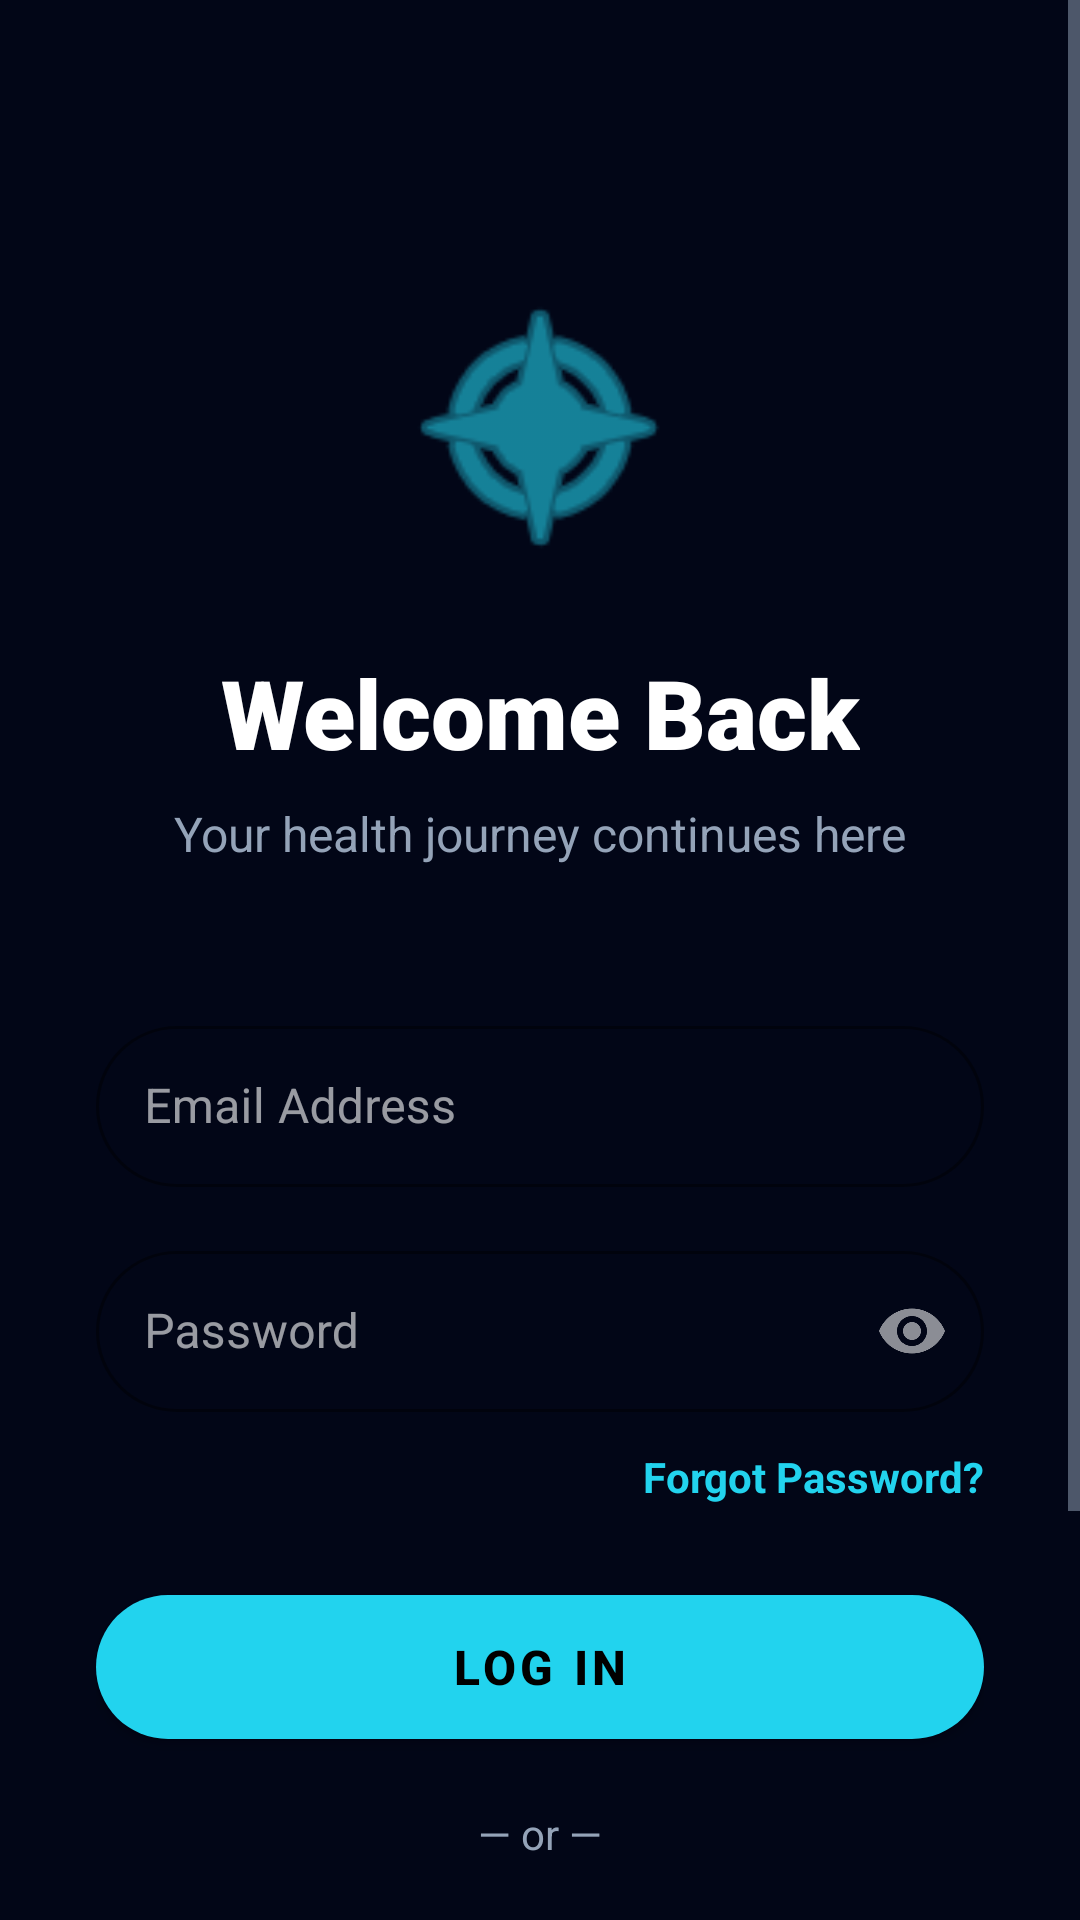

Icons on this 1080w x 1920h Android screen, each with the point to tap as (x=x, y=y):
compass: (x=539, y=427)
